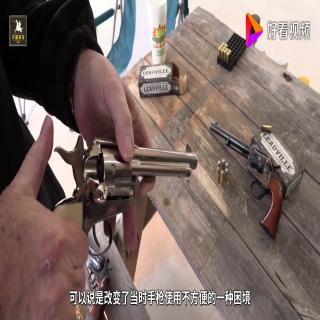gun: (52, 120, 202, 274), (208, 111, 282, 243)
